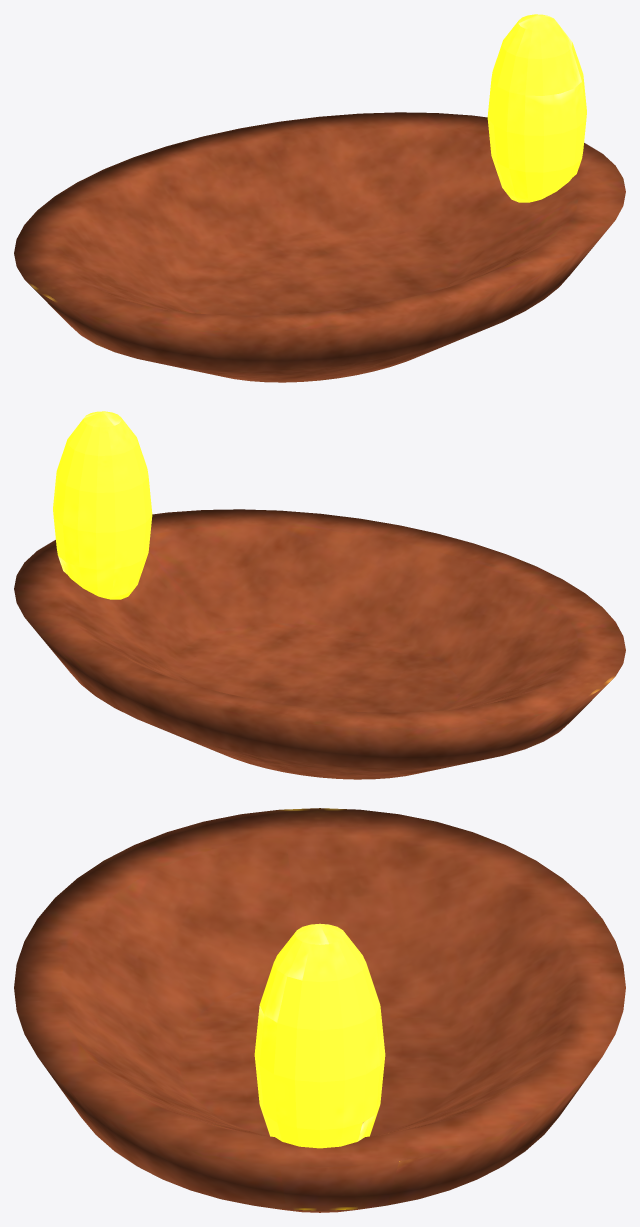
File: diya.glb
3 renders of one model, top to bottom at view 1: azimuth 30°, elevation 25°; view 2: azimuth 150°, elevation 25°; view 3: azimuth 270°, elevation 25°, orthographic. The views are drawn at different scales.
Parts seen in each view (by area): view 1: diya; view 2: diya; view 3: diya.
Boxes of the visible parts, box(x1,y1,x2,y2) form: diya: box(14, 14, 625, 382); diya: box(14, 411, 625, 779); diya: box(14, 808, 625, 1212).
Size of the model in its own units: 0.65 by 0.29 by 0.468.
1 material, 1 textured.
